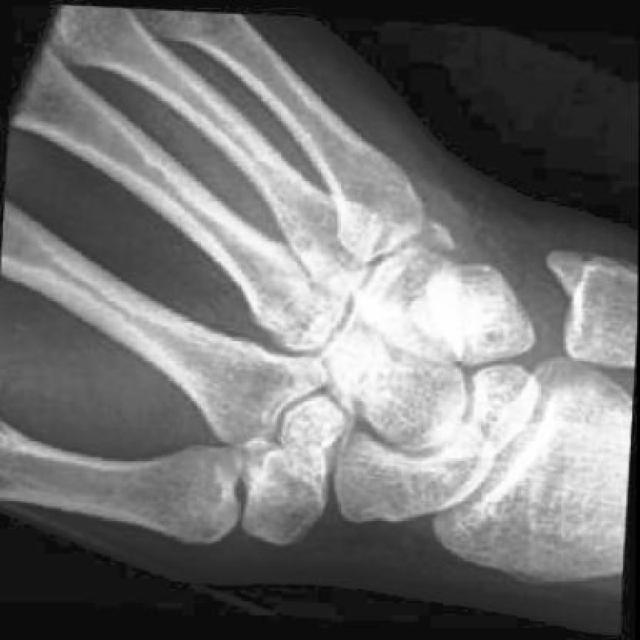Fracture: (397, 206, 464, 280)
